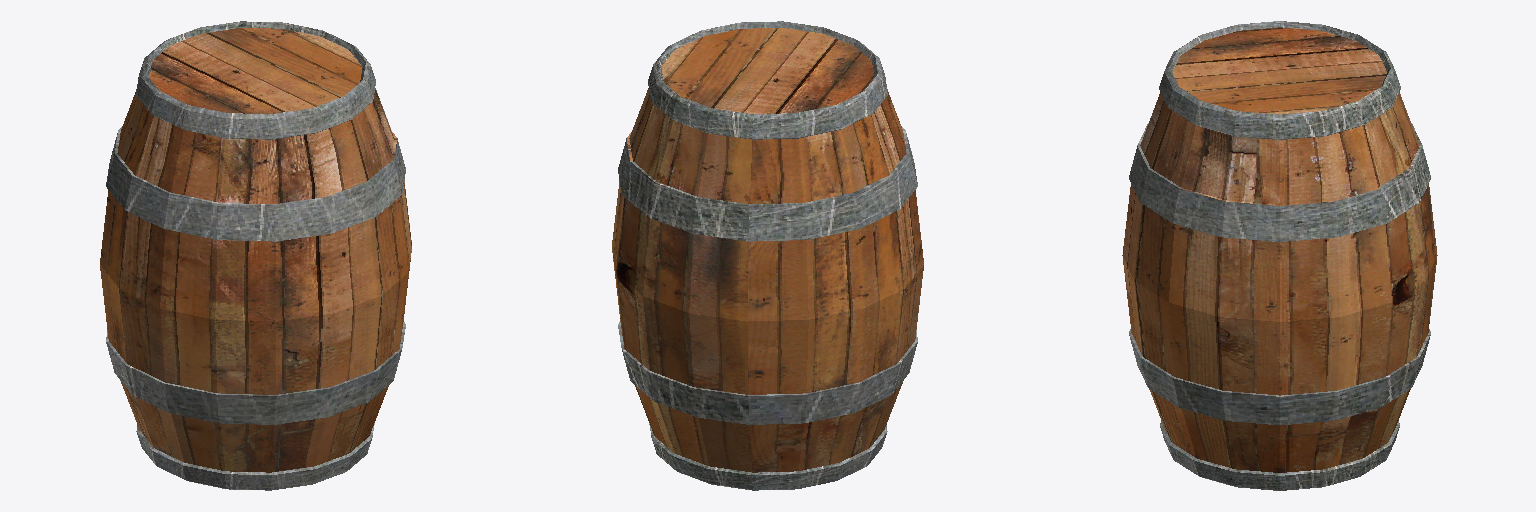
The picture shows the model from 3 angles: view 1: azimuth 30°, elevation 25°; view 2: azimuth 150°, elevation 25°; view 3: azimuth 270°, elevation 25°; orthographic projection.
Parts seen in each view (by area): view 1: Barrel_Cylinder; view 2: Barrel_Cylinder; view 3: Barrel_Cylinder.
Part boxes in pixels (x1,y1,x2,y2): Barrel_Cylinder: (100, 21, 411, 490); Barrel_Cylinder: (612, 21, 923, 490); Barrel_Cylinder: (1122, 21, 1437, 490).
Size of the model in its own units: 2.2 by 2.9 by 2.2.
1 materials, 1 textured.